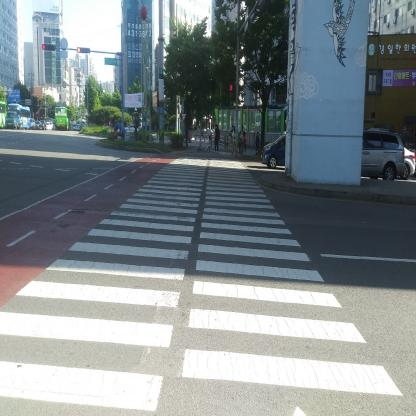Red: (228, 83, 234, 105)
